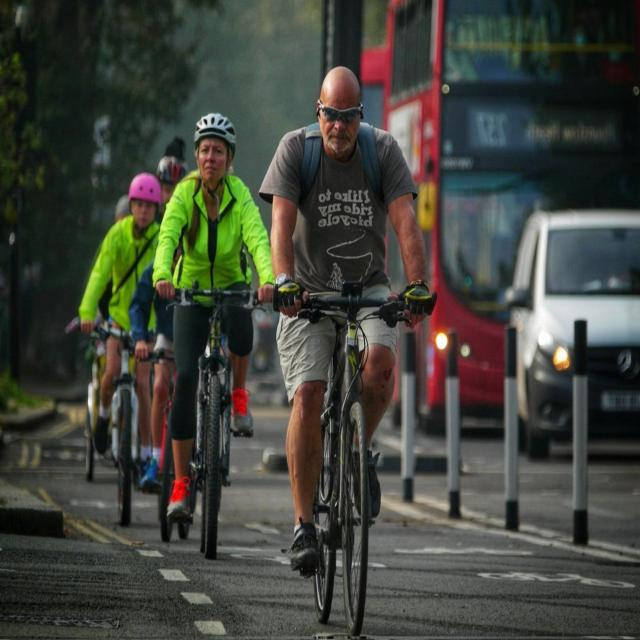bicycle: (260, 67, 435, 636), (152, 113, 272, 558)
